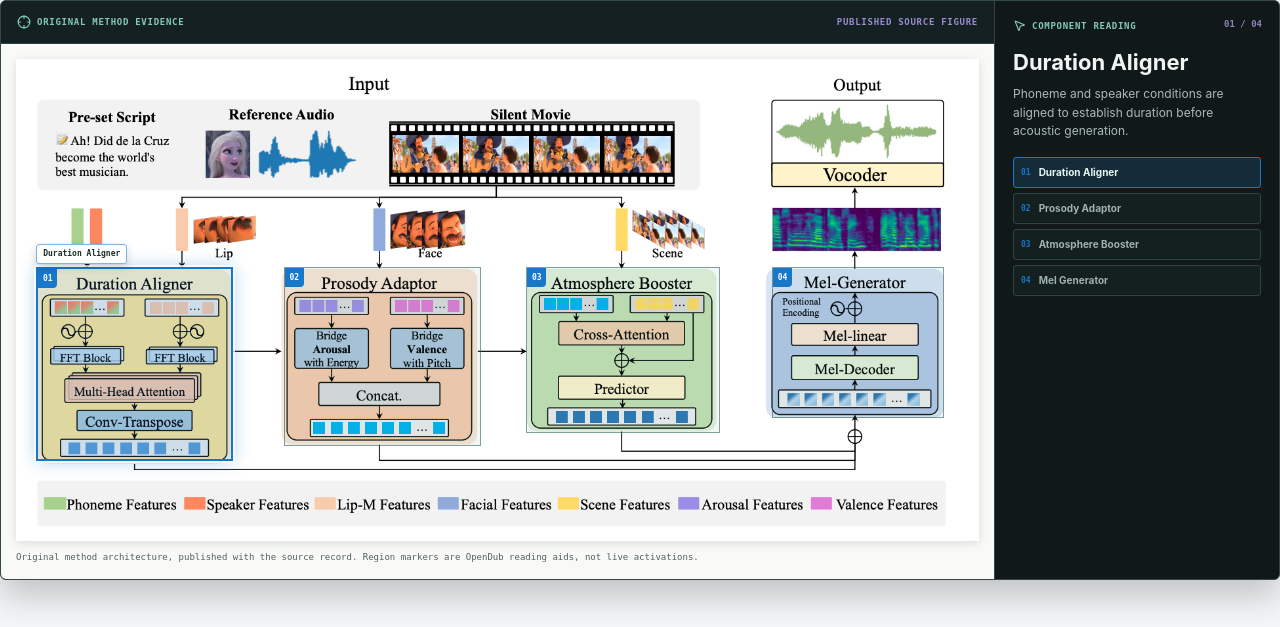
Test case: PaperArchitectureFigure › keeps the original method figure intact while letting a reader inspect named regions
This screenshot has width=1280, height=627.
Expected: the text "Original method architecture, published with the source record" is shown, [16, 552, 699, 562]
Expected: the heading "Duration Aligner" is shown, [1013, 49, 1188, 75]
Click the button named "Inspect Atmosphere Booster in original method figure" at (623, 350), box [526, 268, 720, 433]
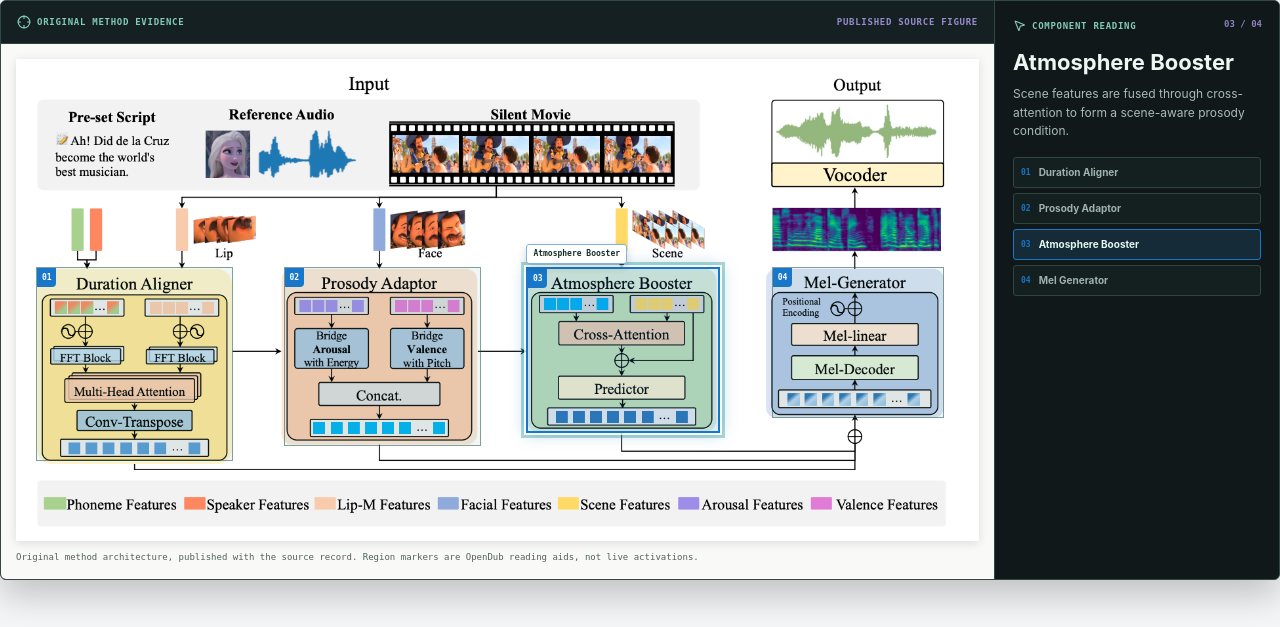
Expected: the heading "Atmosphere Booster" is shown, [1013, 51, 1261, 74]
Expected: the text "Scene features are fused through cross-attention" is shown, [1013, 86, 1245, 138]
